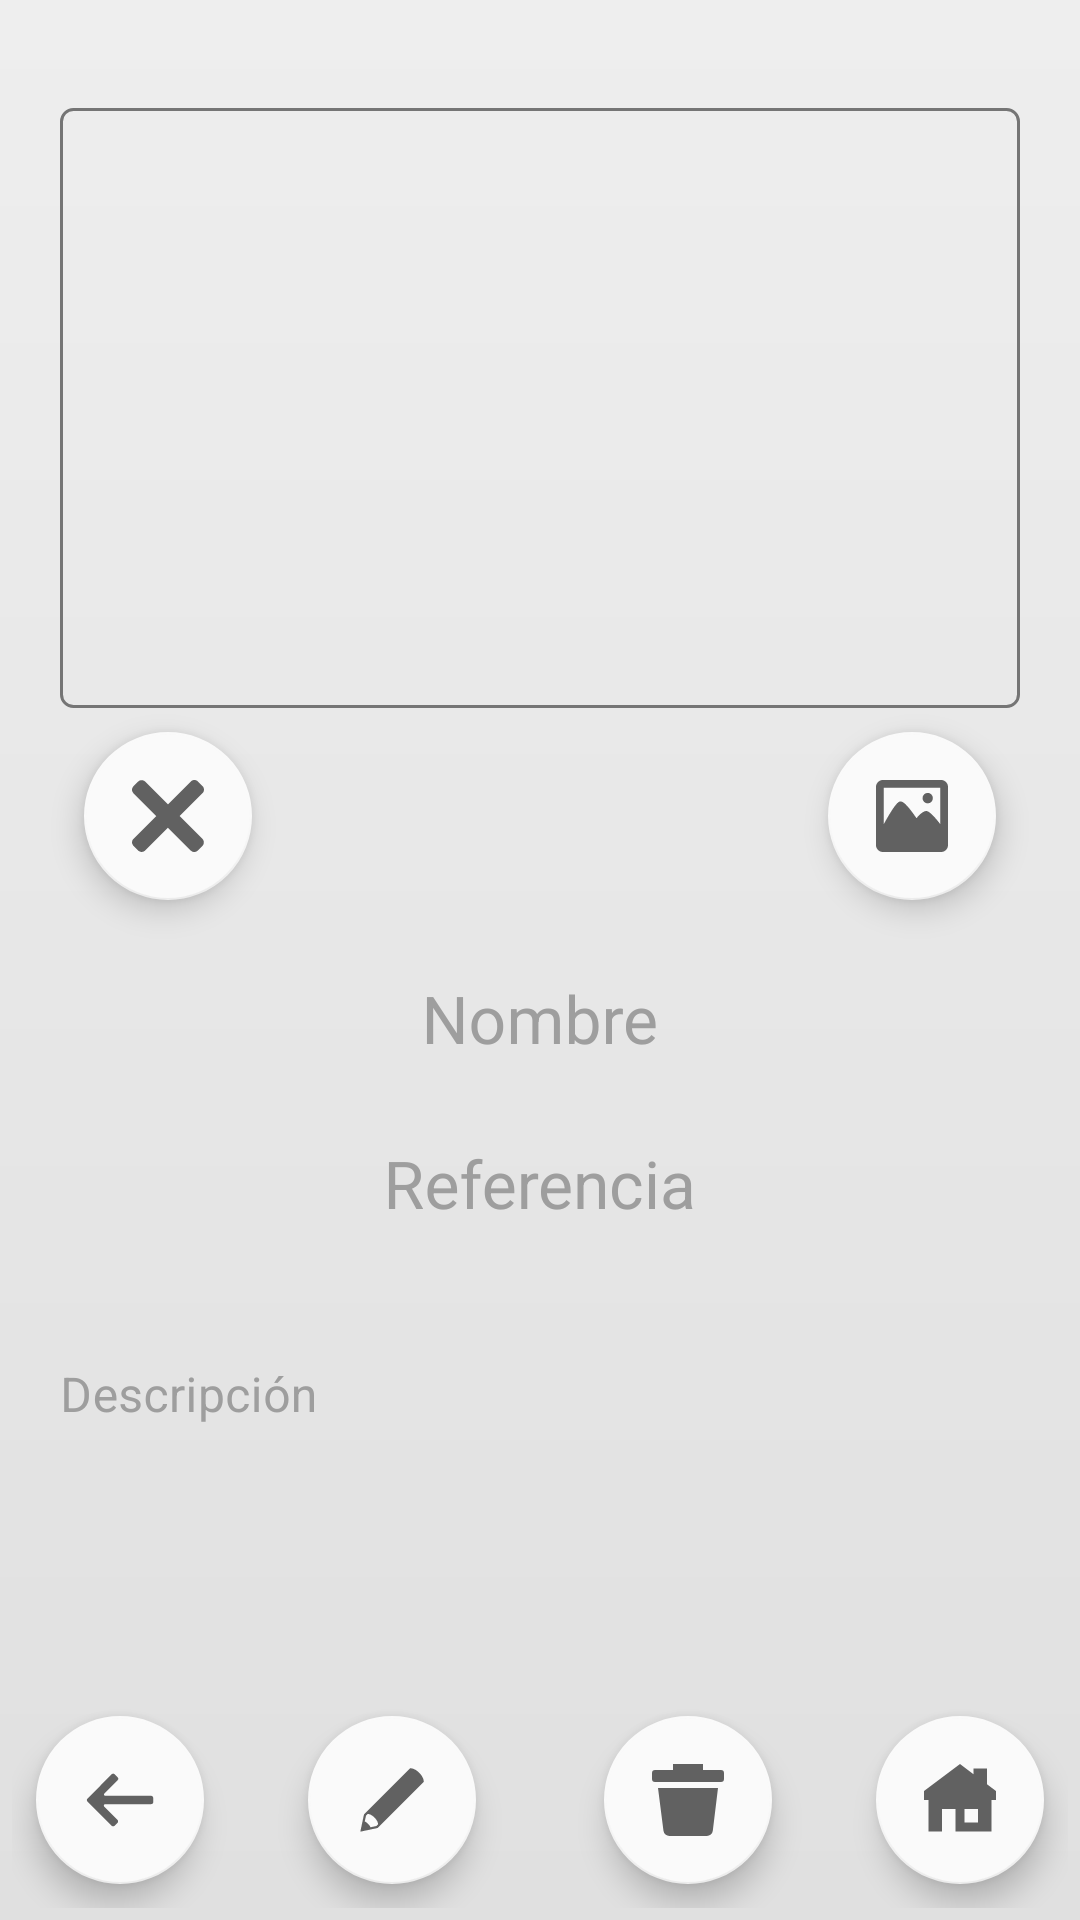

Where icons sit on this 1080*1920 app screen, as (x1, y1, x2, y2):
Fab delete imagen: (84, 732, 252, 900)
Fab nav atrás: (36, 1716, 203, 1884)
Fab nav editar: (308, 1716, 475, 1882)
Fab nav eliminar: (604, 1716, 771, 1882)
Fab nav home: (876, 1716, 1043, 1882)
Fab select imagen: (828, 732, 996, 900)
